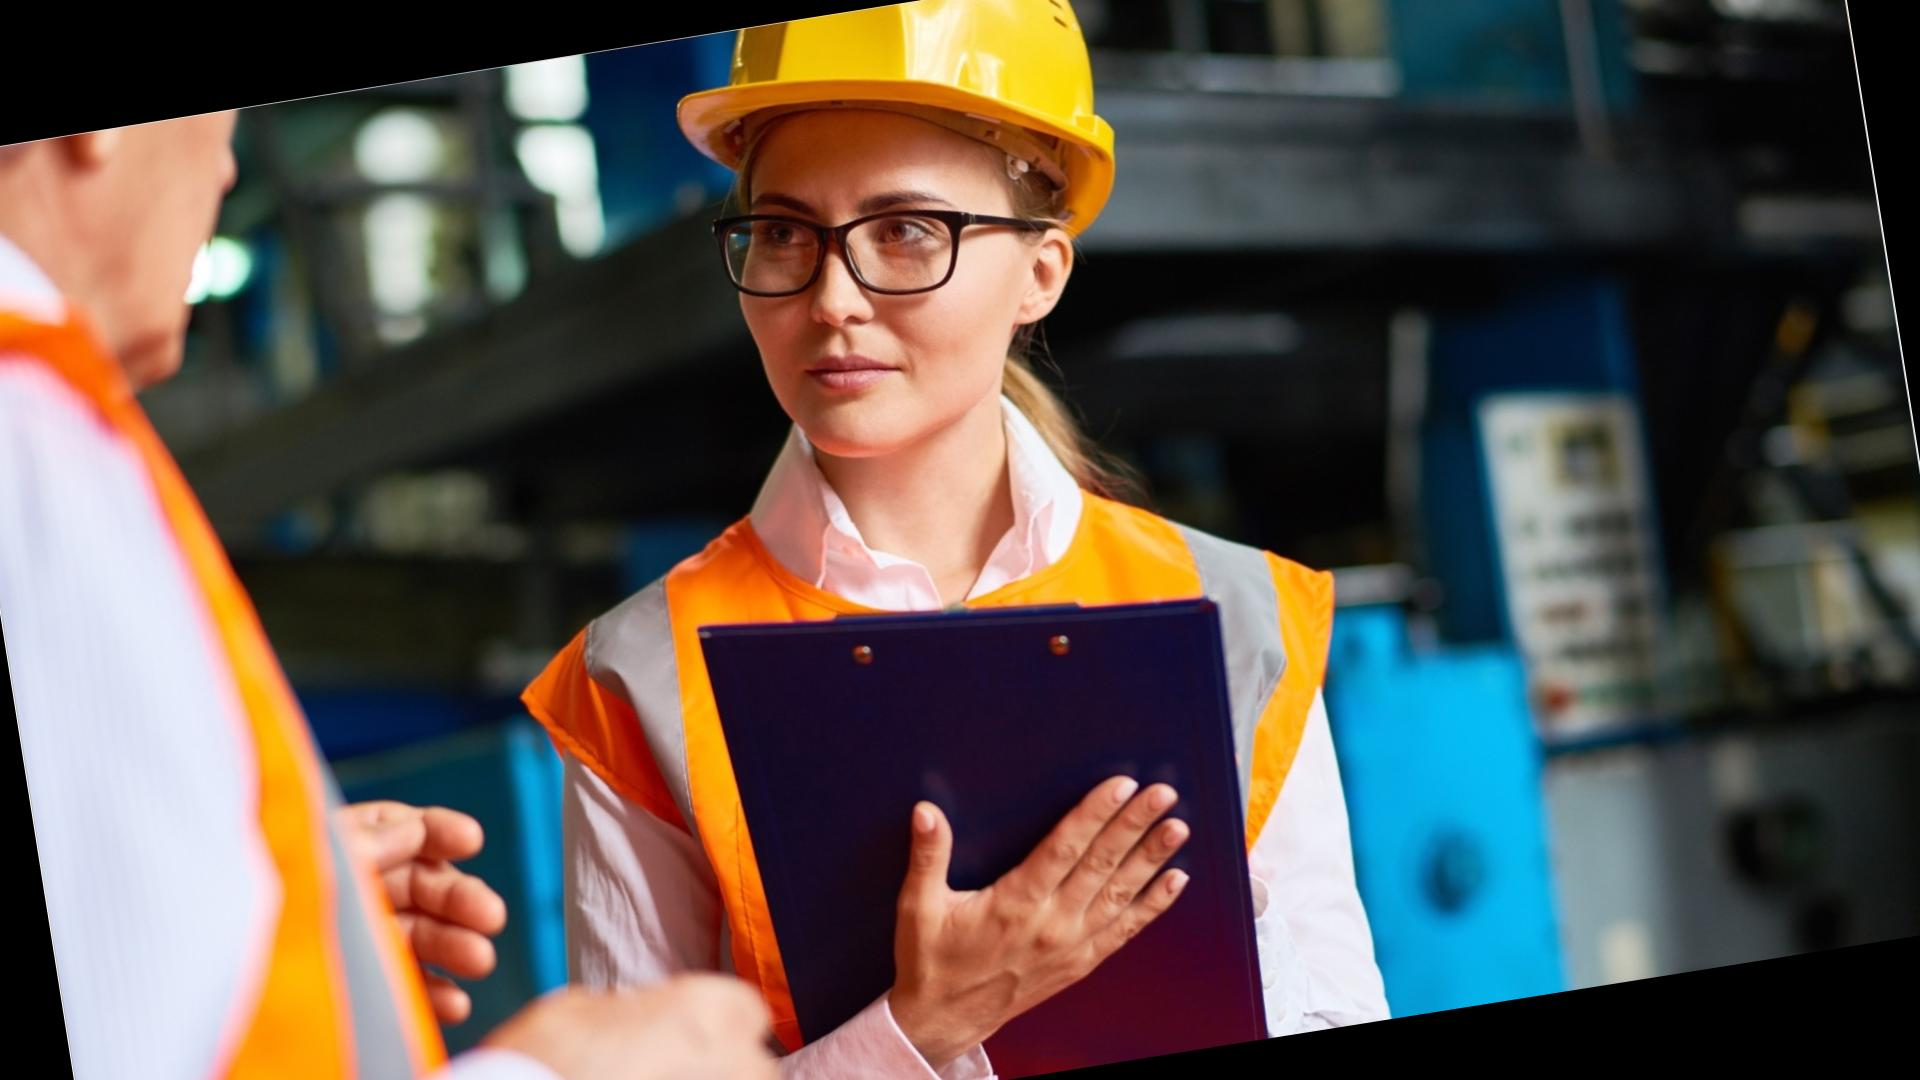helmet: (663, 0, 1126, 280)
wear: (498, 435, 1404, 1080), (0, 335, 475, 1080)
